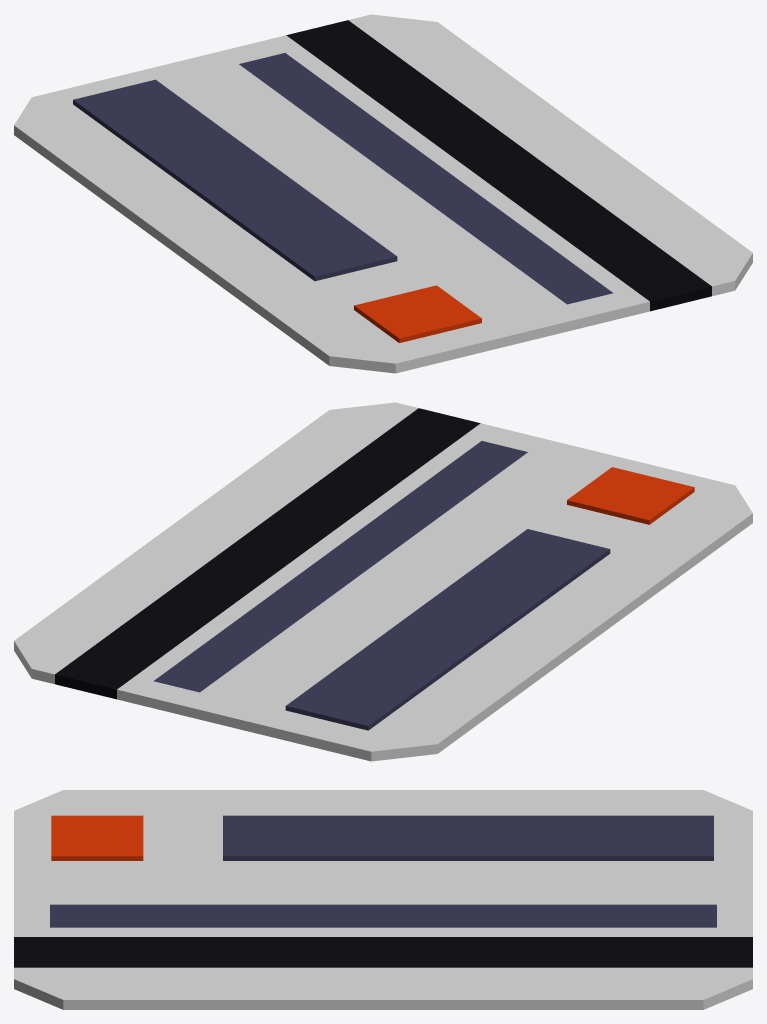
Rendered from CreditCard.FBX.
3 views of the same model, one above another, from view 1: azimuth 30°, elevation 25°; view 2: azimuth 150°, elevation 25°; view 3: azimuth 270°, elevation 25° (orthographic).
Visible parts, largest first — view 1: CreditCard; view 2: CreditCard; view 3: CreditCard.
Part boxes in pixels (x1=…): CreditCard: x1=14, y1=14, x2=752, y2=373; CreditCard: x1=14, y1=402, x2=752, y2=761; CreditCard: x1=14, y1=790, x2=752, y2=1009.
Size of the model in its own units: 1.1 by 0.0397 by 1.63.
